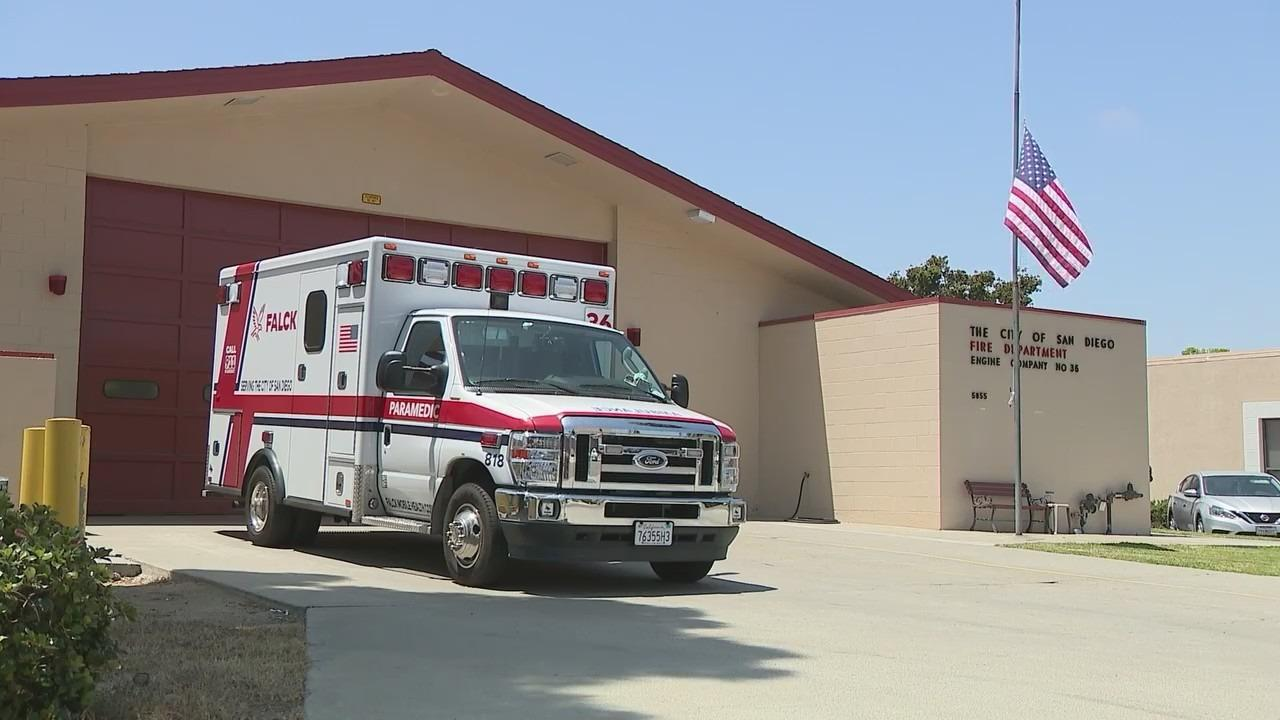ambulance_off: (204, 233, 747, 588)
